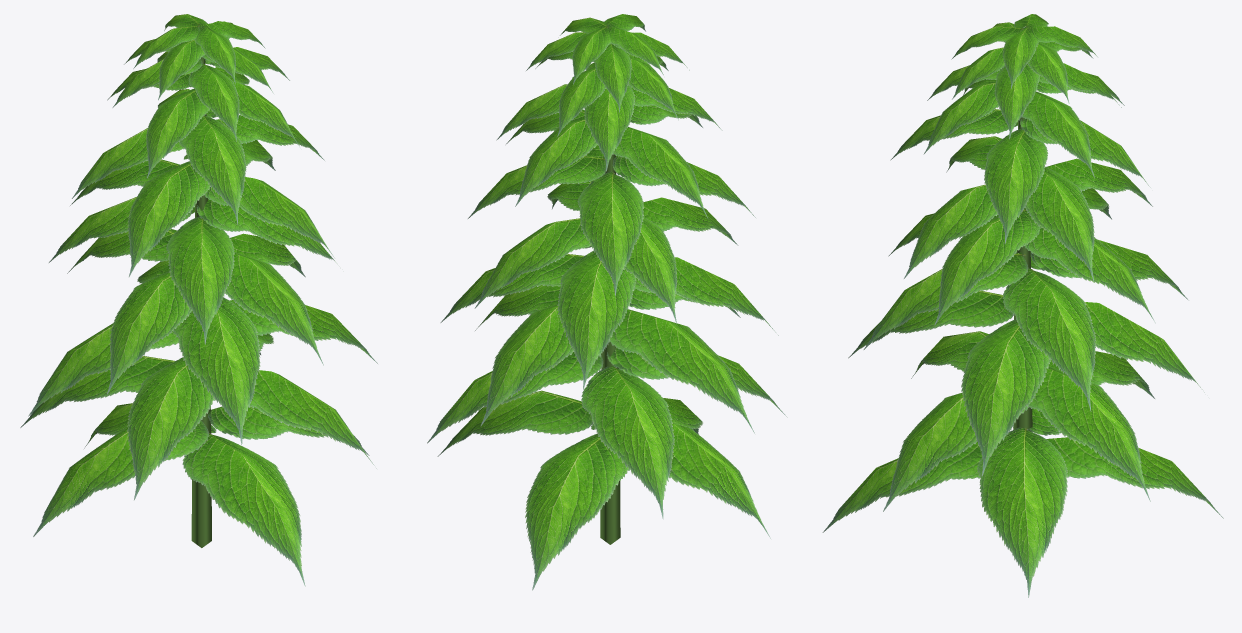
Rendered from plant21.FBX.
The picture shows the model from 3 angles, left to right: view 1: azimuth 30°, elevation 25°; view 2: azimuth 150°, elevation 25°; view 3: azimuth 270°, elevation 25°; orthographic projection. The views are drawn at different scales.
Parts seen in each view (by area): view 1: plant21; view 2: plant21; view 3: plant21.
Boxes of the visible parts, x1,y1,x2,y2 form: plant21: (20, 14, 377, 586); plant21: (427, 14, 787, 590); plant21: (822, 14, 1223, 597).
Size of the model in its own units: 1.39 by 2.03 by 1.41.
